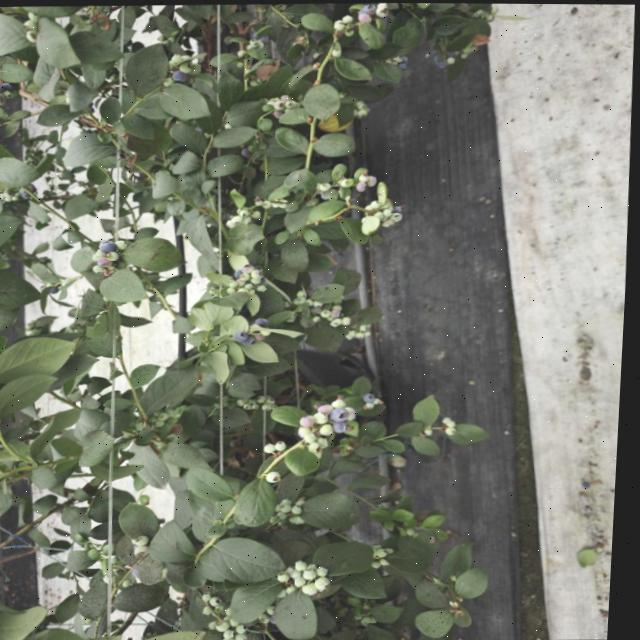RipeBlueBerry: (335, 406, 354, 420), (337, 420, 355, 432), (172, 69, 189, 81), (236, 330, 251, 341), (361, 2, 375, 11), (247, 333, 259, 343), (367, 392, 380, 401), (243, 145, 253, 156), (259, 317, 272, 325), (236, 267, 245, 276), (0, 81, 6, 91)
Semi-RipeBlueBerry: (302, 413, 320, 425), (99, 254, 116, 266), (303, 414, 320, 425), (322, 402, 337, 412), (359, 11, 372, 21), (245, 262, 257, 272), (358, 180, 368, 190), (369, 174, 379, 184), (274, 108, 285, 116), (334, 309, 344, 317)
UnripeBlueBerry: (307, 580, 323, 593), (222, 616, 236, 630), (139, 544, 155, 556), (178, 60, 194, 72), (101, 241, 120, 251), (309, 566, 324, 578), (321, 576, 336, 588), (270, 471, 286, 482), (317, 410, 333, 421), (141, 533, 155, 544), (299, 559, 314, 569), (302, 425, 317, 435), (283, 501, 298, 511), (324, 421, 336, 433), (375, 5, 388, 16), (336, 396, 350, 406), (312, 440, 326, 450), (253, 268, 267, 278), (267, 441, 281, 451), (110, 571, 124, 581), (380, 546, 394, 556), (322, 565, 335, 575), (241, 622, 254, 632), (108, 250, 121, 260), (309, 431, 321, 441), (283, 570, 295, 580), (321, 179, 333, 189), (278, 440, 291, 449), (230, 628, 243, 637), (274, 99, 287, 108), (333, 19, 346, 28), (217, 594, 228, 604), (299, 576, 311, 585), (449, 425, 462, 433), (392, 210, 405, 218), (297, 502, 307, 512), (242, 633, 255, 640), (234, 213, 244, 222), (324, 307, 334, 316), (242, 271, 253, 279), (227, 218, 238, 226), (345, 315, 354, 324), (343, 13, 353, 21), (336, 317, 347, 324), (359, 330, 368, 336)
